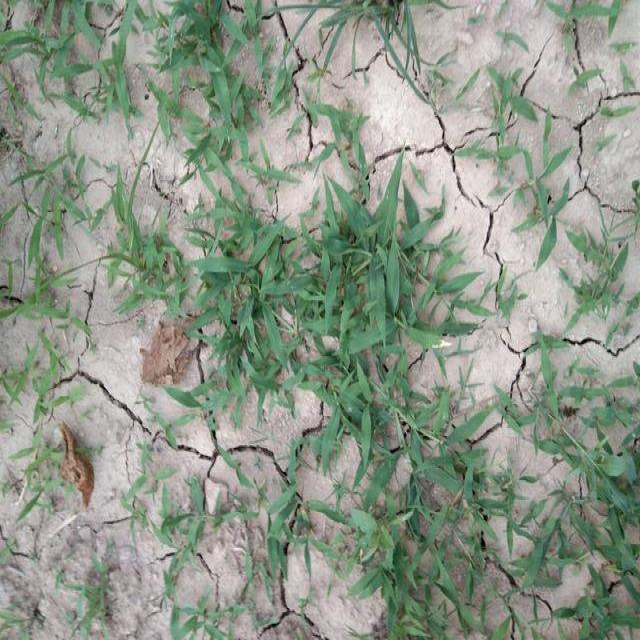weed: (358, 405, 504, 640), (530, 359, 640, 640), (322, 195, 452, 424), (190, 208, 311, 412), (165, 5, 275, 191), (482, 81, 576, 257), (300, 0, 433, 114), (0, 18, 128, 107)
